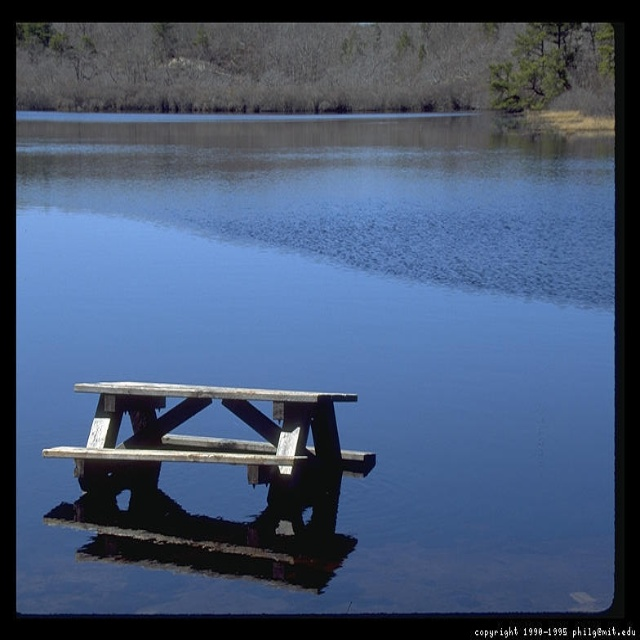obstacle: (37, 340, 396, 548)
